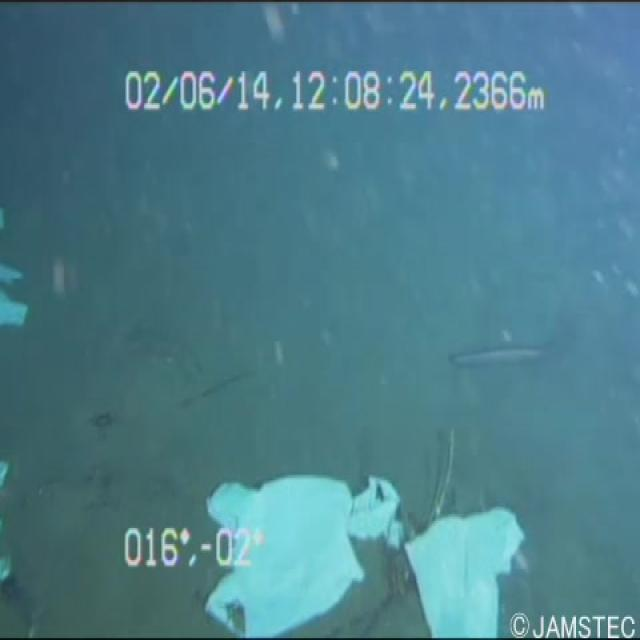plastic: (184, 457, 408, 638), (388, 491, 524, 638)
